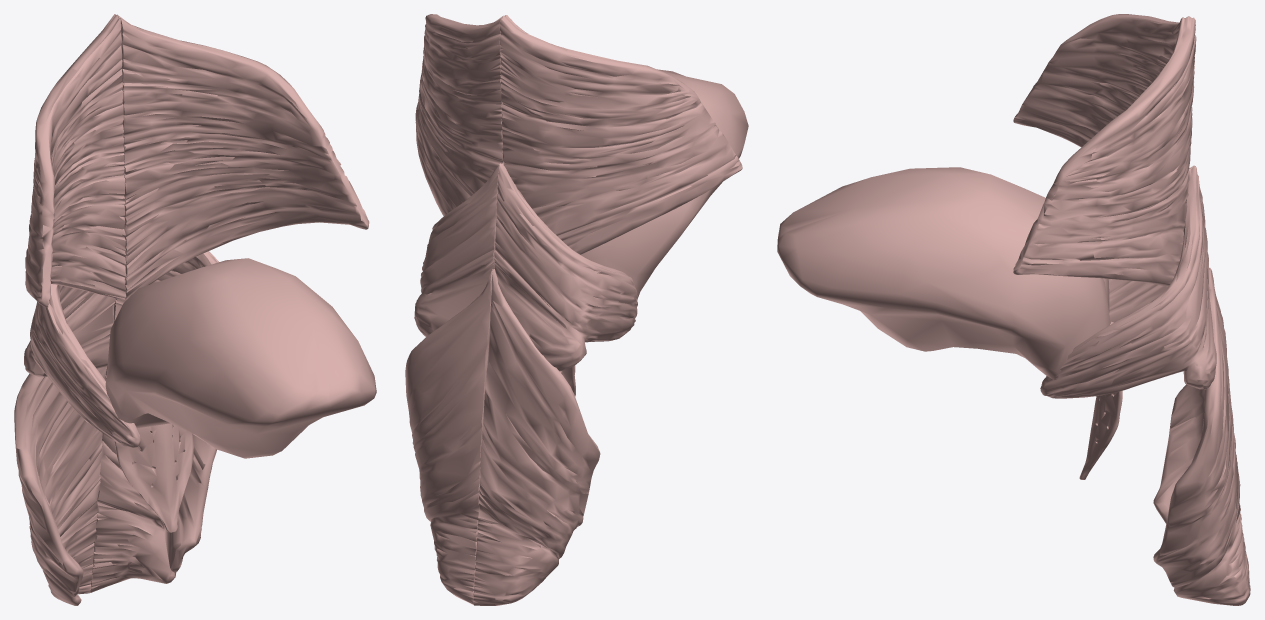
The model's file is airway-v5.glb.
3 views of the same model, side by side, from view 1: azimuth 30°, elevation 25°; view 2: azimuth 150°, elevation 25°; view 3: azimuth 270°, elevation 25° (orthographic). The views are drawn at different scales.
Visible parts, largest first — view 1: FJ2747_Left_superior_pharyngeal_constrictor, FJ2761_Tongue, FJ2759_Right_superior_pharyngeal_constrictor, FJ2752_Right_inferior_pharyngeal_constrictor, FJ2740_Left_inferior_pharyngeal_constrictor, FJ2754_Left_middle_pharyngeal_constrictor, FJ2770_Epiglottis, FJ2742_Right_middle_pharyngeal_constrictor; view 2: FJ2759_Right_superior_pharyngeal_constrictor, FJ2752_Right_inferior_pharyngeal_constrictor, FJ2740_Left_inferior_pharyngeal_constrictor, FJ2754_Left_middle_pharyngeal_constrictor, FJ2747_Left_superior_pharyngeal_constrictor, FJ2742_Right_middle_pharyngeal_constrictor, FJ2761_Tongue; view 3: FJ2761_Tongue, FJ2747_Left_superior_pharyngeal_constrictor, FJ2742_Right_middle_pharyngeal_constrictor, FJ2740_Left_inferior_pharyngeal_constrictor, FJ2759_Right_superior_pharyngeal_constrictor, FJ2752_Right_inferior_pharyngeal_constrictor, FJ2770_Epiglottis, FJ2754_Left_middle_pharyngeal_constrictor.
Part boxes in pixels (left/top/right/bottom): FJ2747_Left_superior_pharyngeal_constrictor: left=115, top=14, right=369, bottom=300; FJ2761_Tongue: left=105, top=258, right=376, bottom=458; FJ2759_Right_superior_pharyngeal_constrictor: left=25, top=14, right=126, bottom=307; FJ2752_Right_inferior_pharyngeal_constrictor: left=14, top=366, right=106, bottom=605; FJ2740_Left_inferior_pharyngeal_constrictor: left=90, top=366, right=216, bottom=592; FJ2754_Left_middle_pharyngeal_constrictor: left=24, top=284, right=140, bottom=447; FJ2770_Epiglottis: left=114, top=423, right=193, bottom=532; FJ2742_Right_middle_pharyngeal_constrictor: left=113, top=251, right=218, bottom=322; FJ2759_Right_superior_pharyngeal_constrictor: left=499, top=15, right=742, bottom=254; FJ2752_Right_inferior_pharyngeal_constrictor: left=473, top=269, right=600, bottom=605; FJ2740_Left_inferior_pharyngeal_constrictor: left=405, top=269, right=493, bottom=604; FJ2754_Left_middle_pharyngeal_constrictor: left=494, top=163, right=637, bottom=371; FJ2747_Left_superior_pharyngeal_constrictor: left=415, top=14, right=505, bottom=215; FJ2742_Right_middle_pharyngeal_constrictor: left=414, top=165, right=499, bottom=336; FJ2761_Tongue: left=580, top=69, right=748, bottom=297; FJ2761_Tongue: left=777, top=167, right=1109, bottom=380; FJ2747_Left_superior_pharyngeal_constrictor: left=1013, top=16, right=1196, bottom=286; FJ2742_Right_middle_pharyngeal_constrictor: left=1040, top=166, right=1216, bottom=398; FJ2740_Left_inferior_pharyngeal_constrictor: left=1153, top=268, right=1250, bottom=605; FJ2759_Right_superior_pharyngeal_constrictor: left=1013, top=14, right=1196, bottom=161; FJ2752_Right_inferior_pharyngeal_constrictor: left=1153, top=267, right=1250, bottom=592; FJ2770_Epiglottis: left=1079, top=321, right=1122, bottom=479; FJ2754_Left_middle_pharyngeal_constrictor: left=1108, top=165, right=1208, bottom=322.
Bounding box in the file's own units: 0.0659 × 0.1145 × 0.0845.
